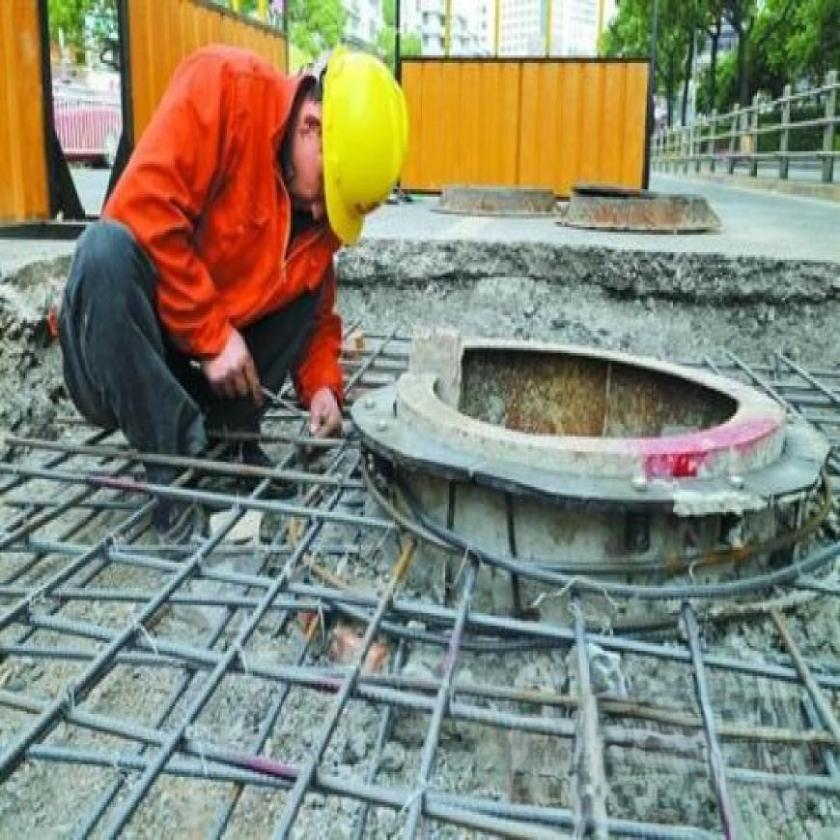Con_casco: (279, 35, 410, 253)
